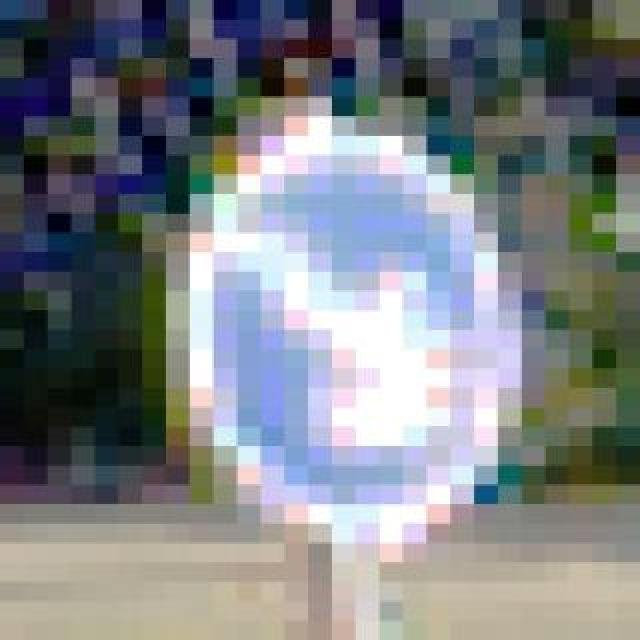keep right: (142, 78, 522, 524)
